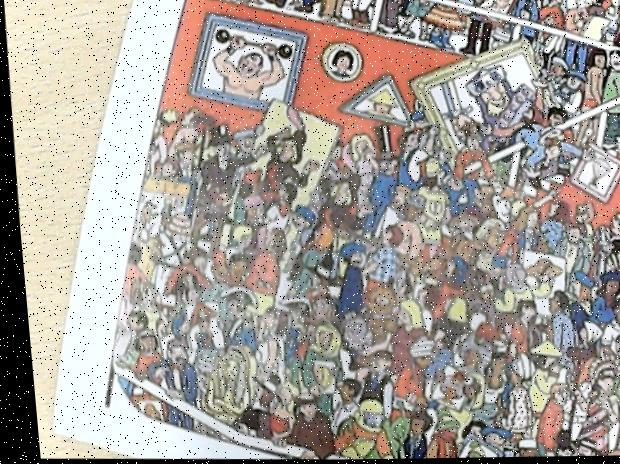waldo: (302, 287, 334, 325)
